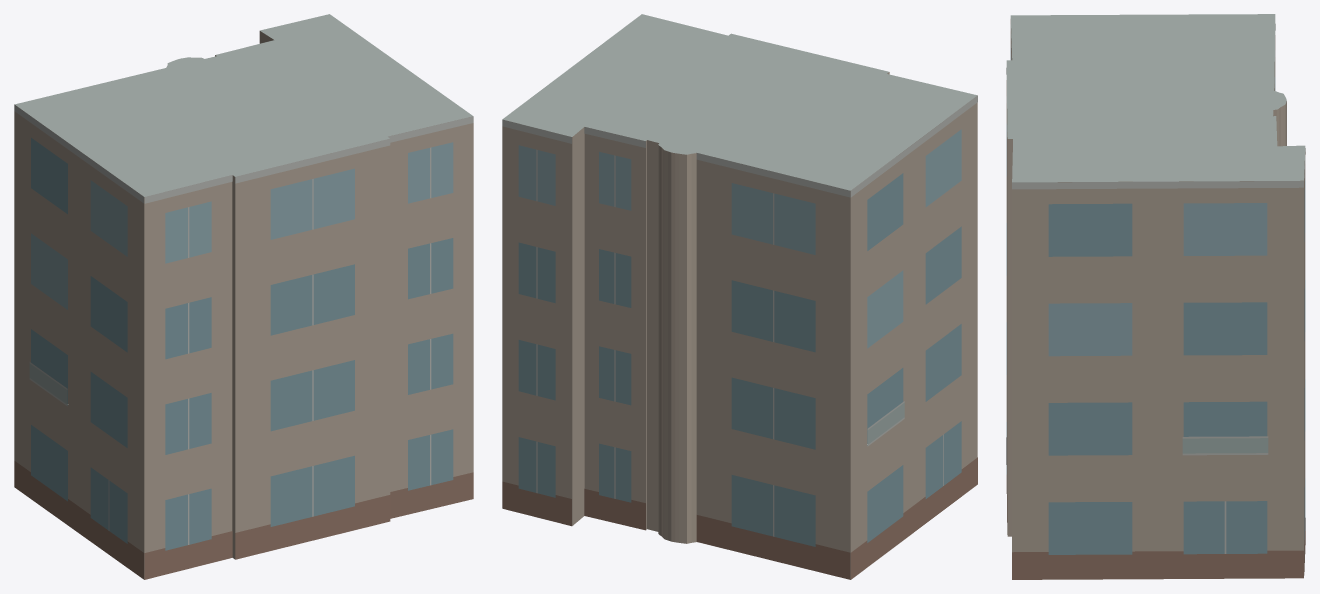
File: survey-upis-32567661.glb
3 views of the same model, side by side, from view 1: azimuth 30°, elevation 25°; view 2: azimuth 150°, elevation 25°; view 3: azimuth 270°, elevation 25° (orthographic). The views are drawn at different scales.
Visible parts, largest first — view 1: survey-upis-32567661.tmp; view 2: survey-upis-32567661.tmp; view 3: survey-upis-32567661.tmp.
Part boxes in pixels (bbox=[...]): survey-upis-32567661.tmp: bbox=[14, 14, 473, 579]; survey-upis-32567661.tmp: bbox=[502, 14, 977, 579]; survey-upis-32567661.tmp: bbox=[1006, 14, 1305, 579].
Size of the model in its own units: 12.57 by 13.8 by 9.41.
